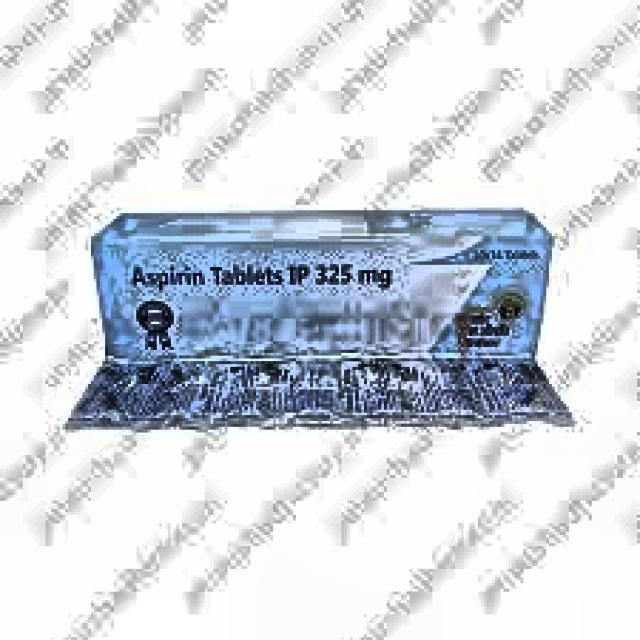Aspirin: (96, 233, 544, 354)
